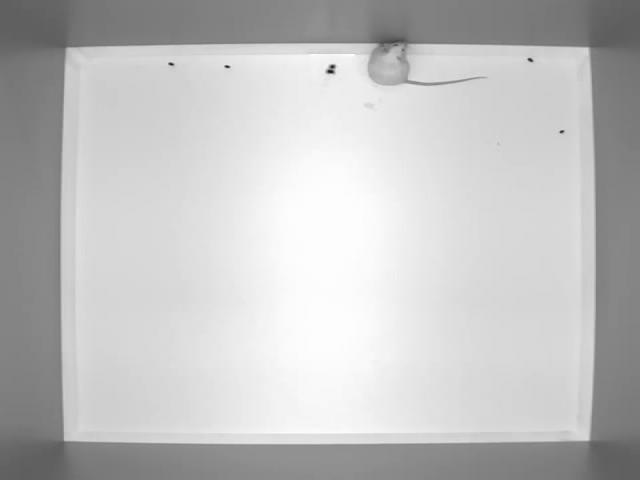Tikus: (362, 35, 488, 97)
